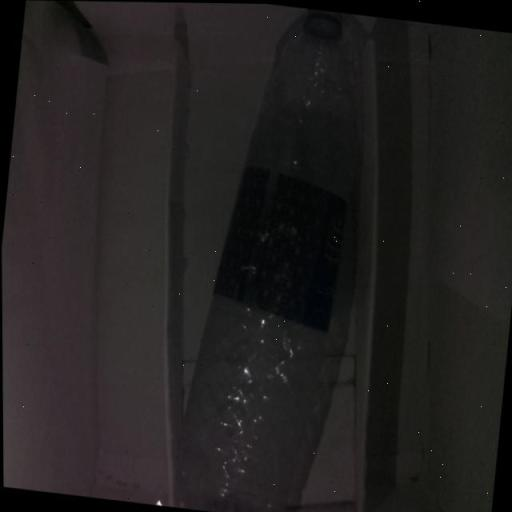plastic: (160, 1, 381, 512)
